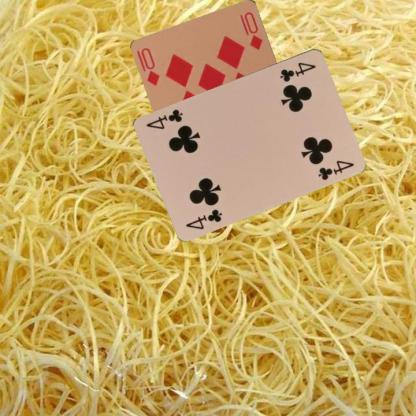10d: (134, 45, 162, 87)
4c: (277, 59, 318, 83), (183, 206, 224, 230)
